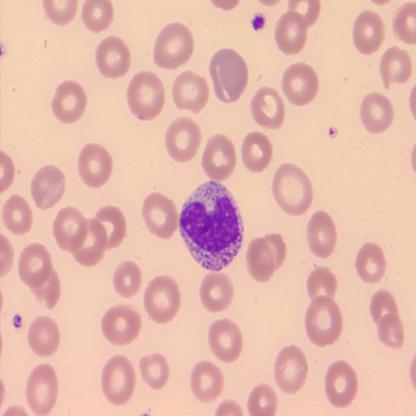Metamyelocyte: (176, 179, 247, 273)
